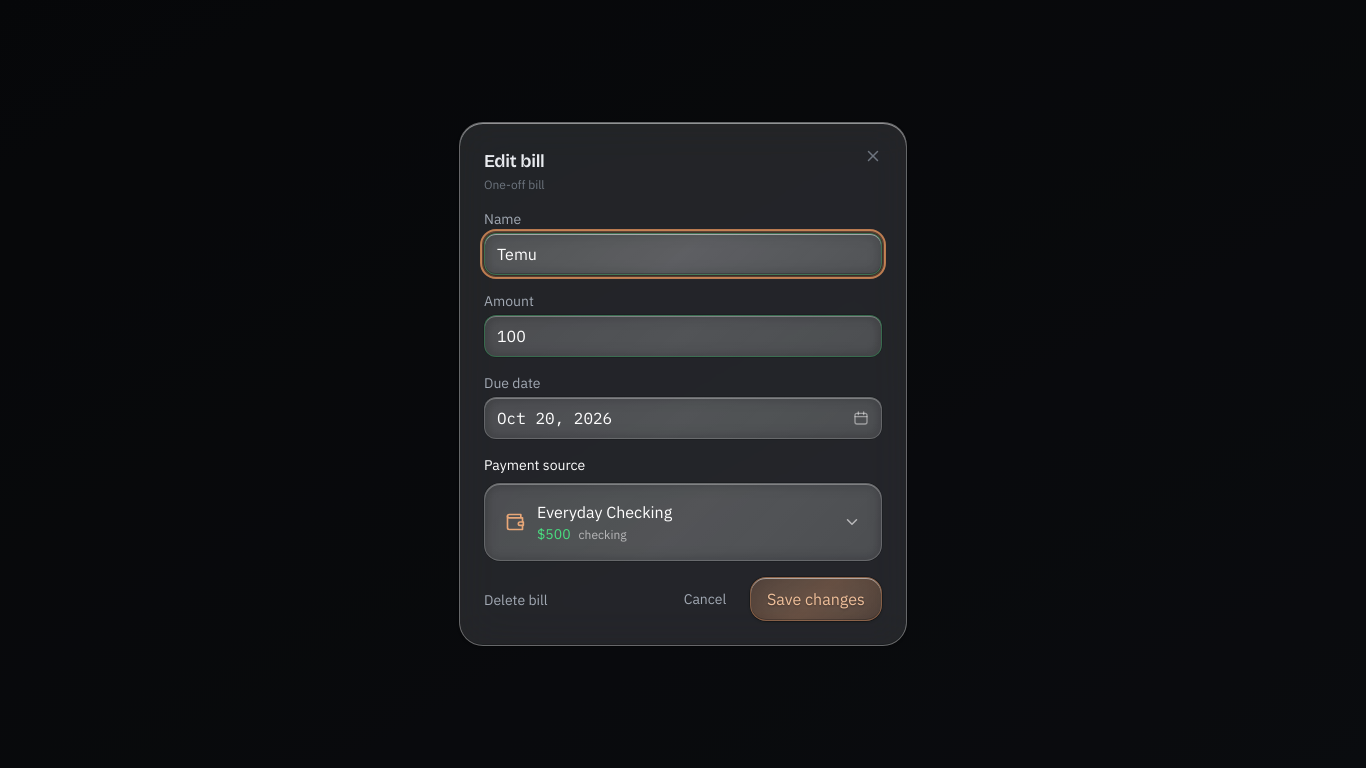
it: EditExpenseModal — saving › rejects an unreadable amount instead of substituting a number
Replace the text in the field labelled "Amount" with "abc" at [683, 336], box x1=484 y1=315 x2=882 y2=357
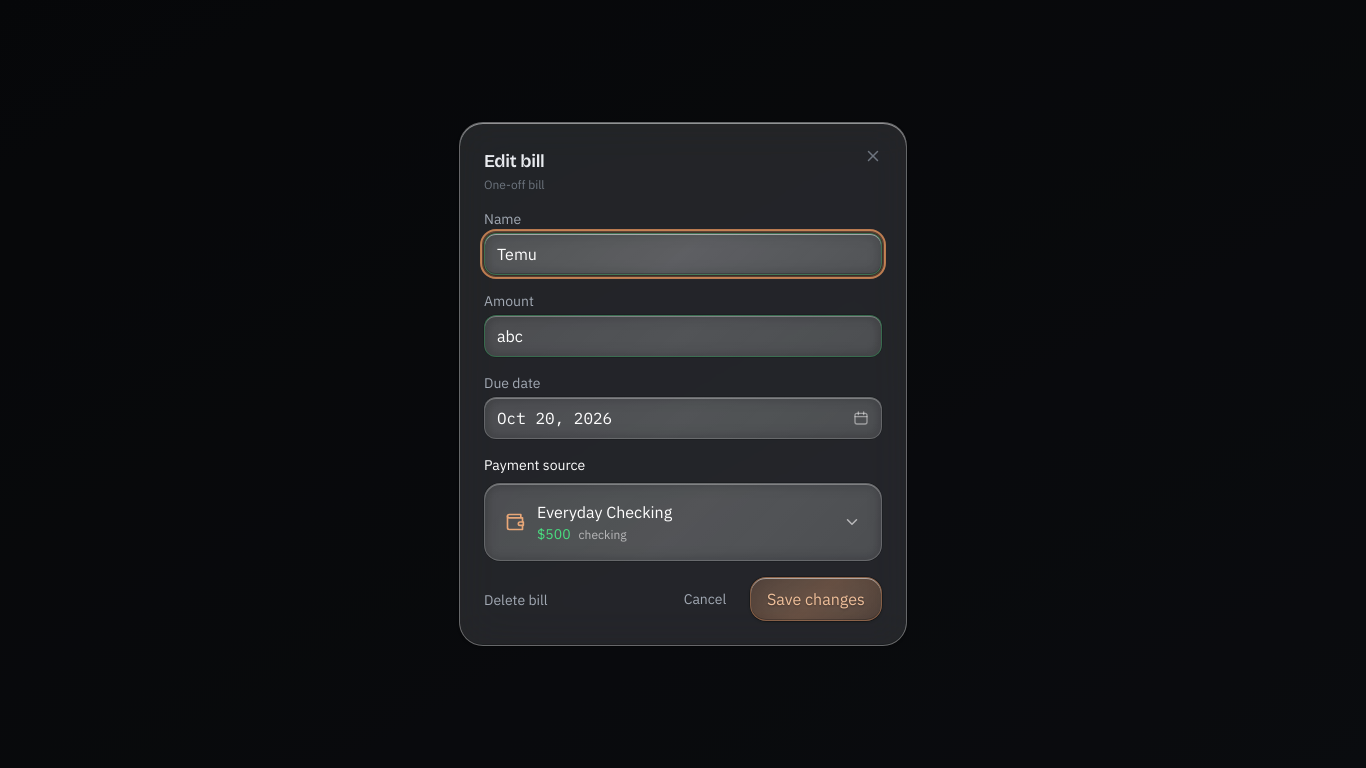
Click the button "Save changes".
click(816, 599)  # box x1=750 y1=577 x2=882 y2=621
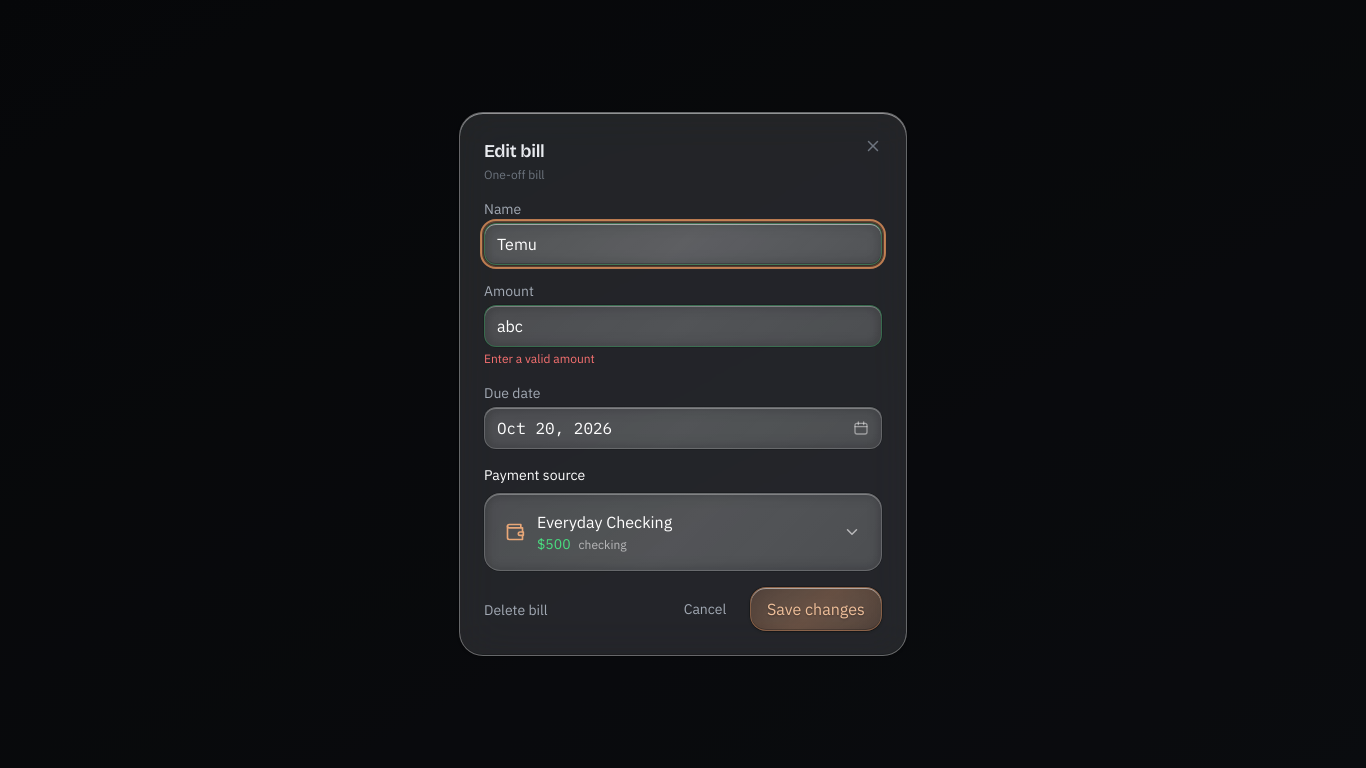
expect the message reads "Enter a valid amount": met, box x1=484 y1=351 x2=595 y2=366
